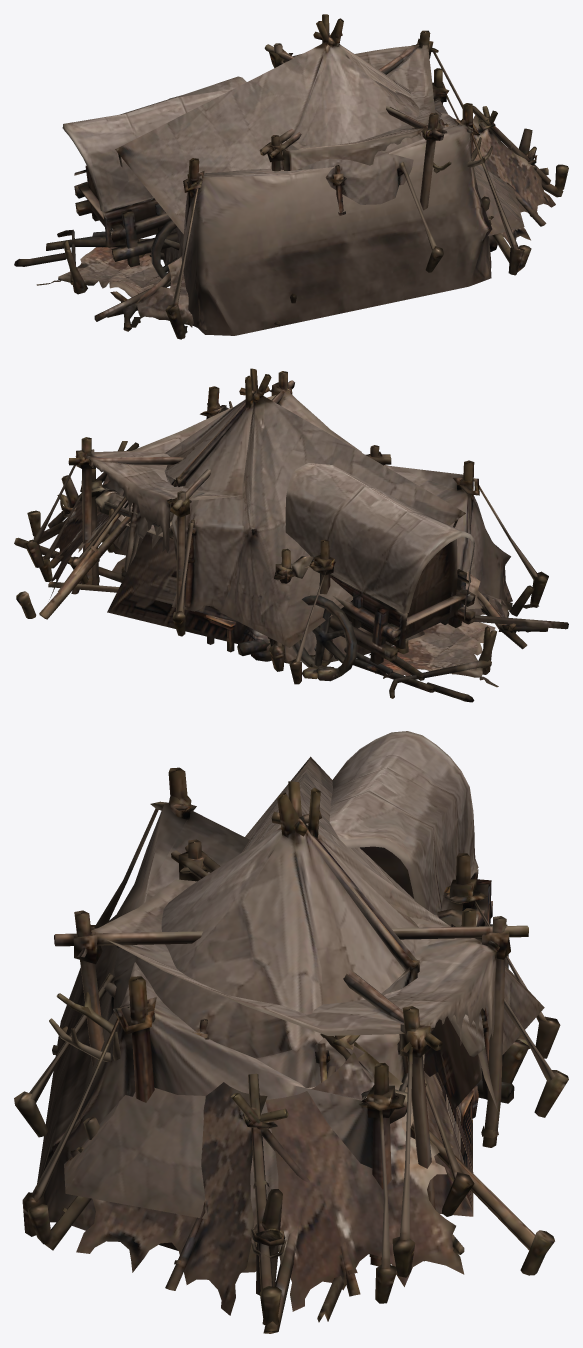
File: kit-tents-b.glb
3 views of the same model, one above another, from view 1: azimuth 30°, elevation 25°; view 2: azimuth 150°, elevation 25°; view 3: azimuth 270°, elevation 25° (orthographic). The views are drawn at different scales.
Parts seen in each view (by area): view 1: tentb_01_hospital, tentb_02_bell, tentb_03_cart_awning, tentb_05_burnt, tentb_04_hide_shelter; view 2: tentb_03_cart_awning, tentb_02_bell, tentb_01_hospital, tentb_05_burnt, tentb_06_quartermaster, tentb_04_hide_shelter; view 3: tentb_02_bell, tentb_04_hide_shelter, tentb_03_cart_awning, tentb_01_hospital, tentb_06_quartermaster, tentb_05_burnt.
Part boxes in pixels (<box>): tentb_01_hospital: <box>160,68,524,339</box>; tentb_02_bell: <box>115,14,524,272</box>; tentb_03_cart_awning: <box>62,30,463,278</box>; tentb_05_burnt: <box>14,167,548,338</box>; tentb_04_hide_shelter: <box>68,105,568,321</box>; tentb_03_cart_awning: <box>24,371,475,677</box>; tentb_02_bell: <box>68,368,465,654</box>; tentb_01_hospital: <box>39,386,548,684</box>; tentb_05_burnt: <box>14,537,548,702</box>; tentb_06_quartermaster: <box>107,532,316,671</box>; tentb_04_hide_shelter: <box>16,401,568,680</box>; tentb_02_bell: <box>14,756,568,1227</box>; tentb_04_hide_shelter: <box>27,992,554,1333</box>; tentb_03_cart_awning: <box>54,731,528,1277</box>; tentb_01_hospital: <box>22,767,560,1303</box>; tentb_06_quartermaster: <box>424,908,529,1216</box>; tentb_05_burnt: <box>52,1026,530,1322</box>.
Bounding box in the file's own units: 8.04 × 3.5 × 4.72.
1 material, 1 textured.
